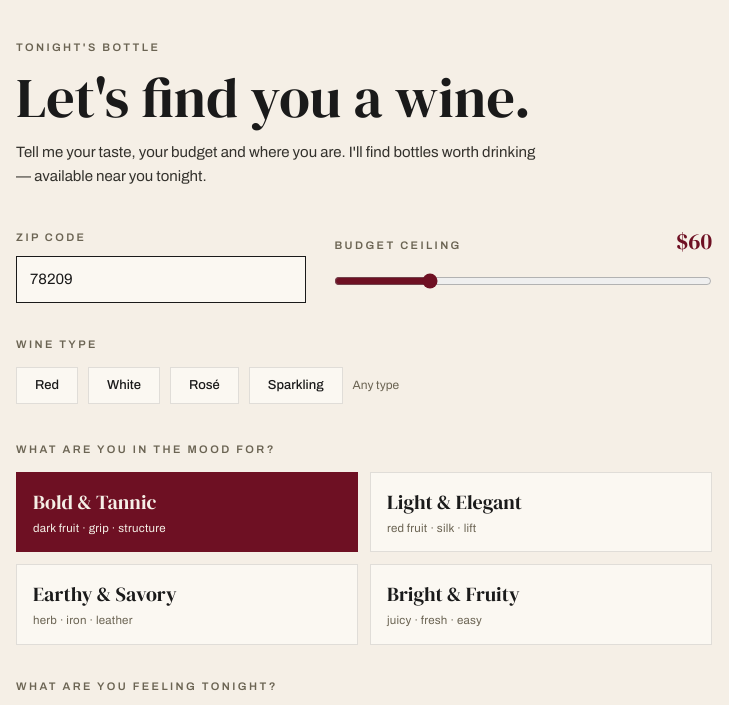
disables Find wines when zip is empty
This screenshot has width=729, height=705.
Clear the field showing "78209" at (161,279), box [16,256,306,302]
(page scrolled)
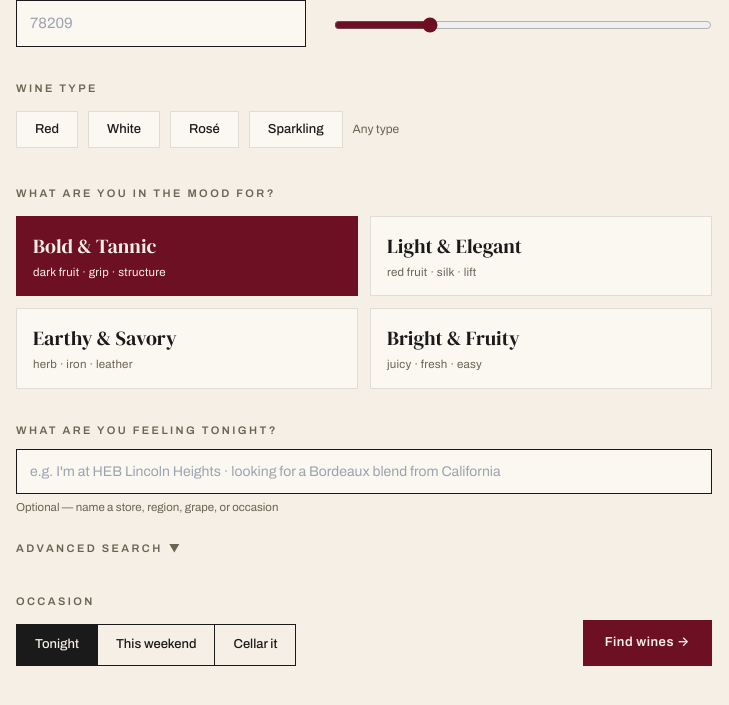
Result: the button "Find wines →" is disabled at [583,620,712,666]
